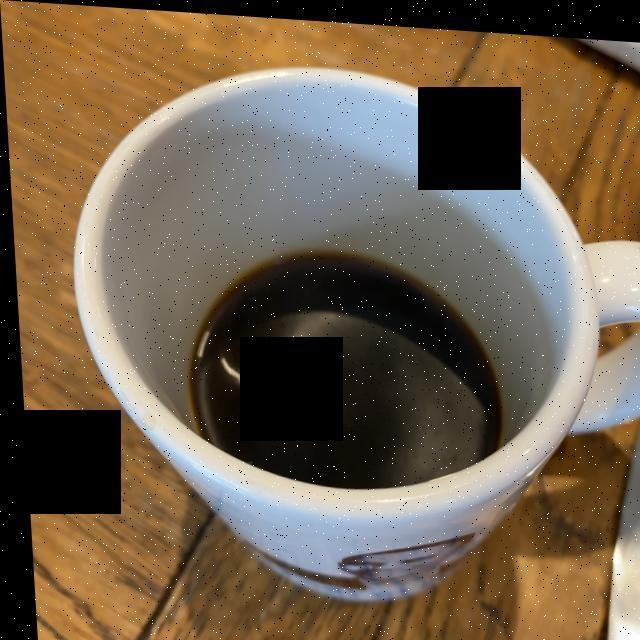coffee: (186, 241, 507, 480)
